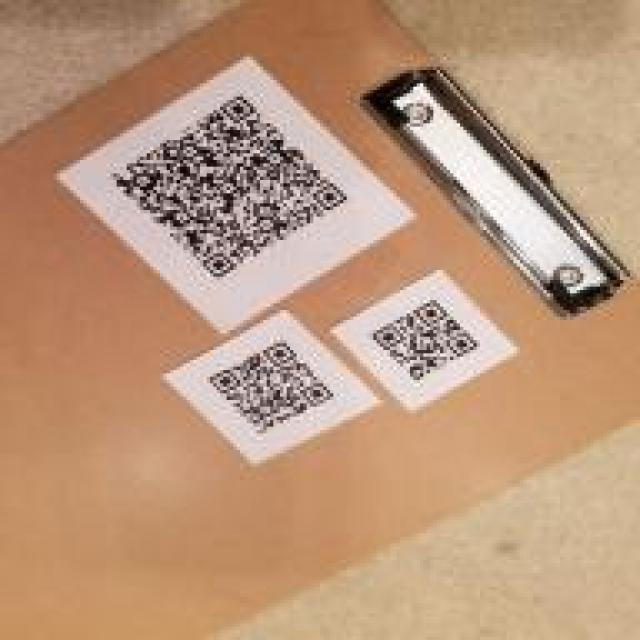qr_code: (112, 95, 347, 276), (208, 342, 332, 432), (372, 299, 480, 381)
